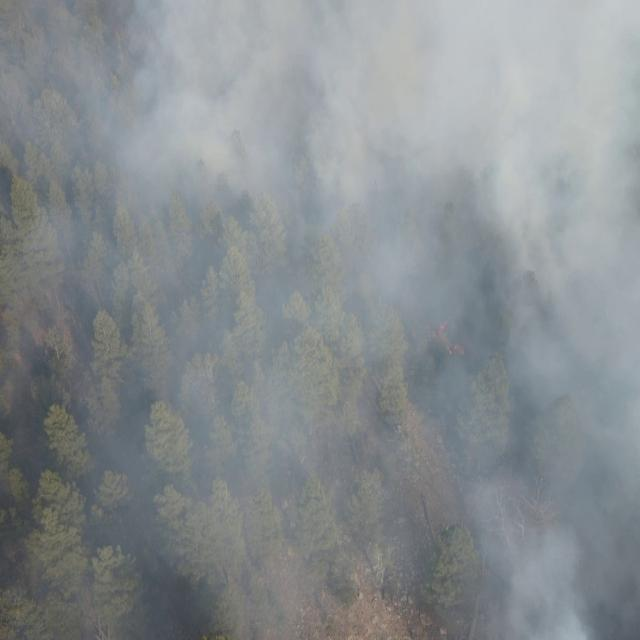fire: (424, 320, 466, 360)
smoke: (0, 0, 640, 640)
